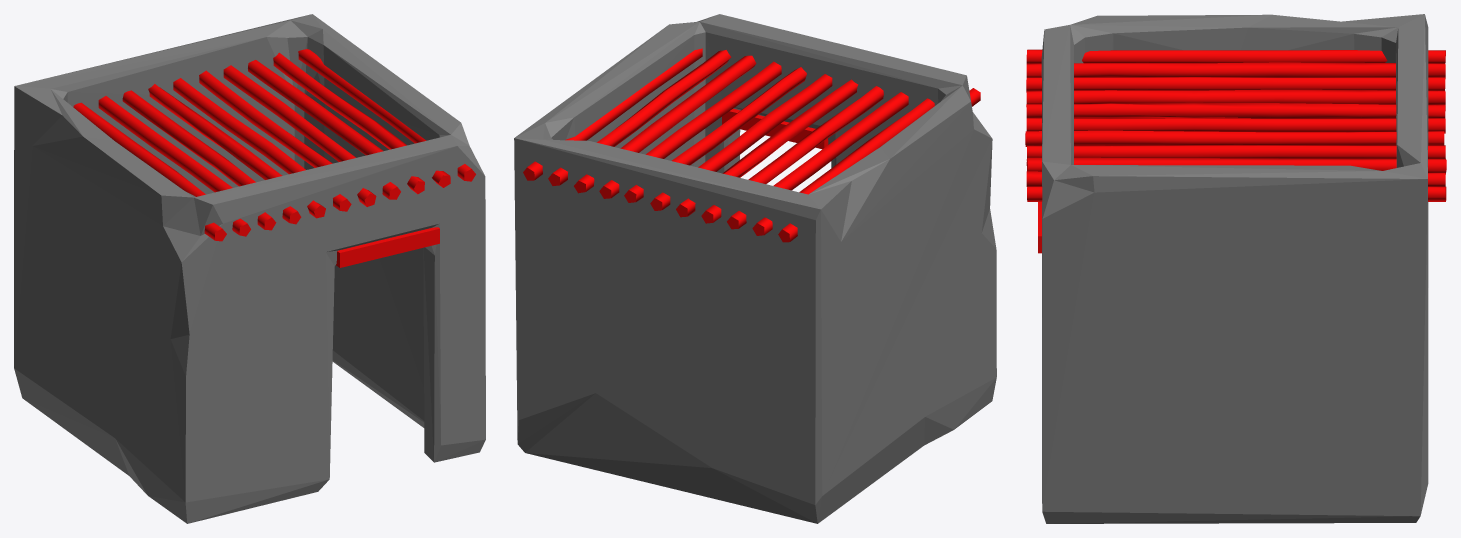
The model's file is House01.fbx.
The picture shows the model from 3 angles, left to right: view 1: azimuth 30°, elevation 25°; view 2: azimuth 150°, elevation 25°; view 3: azimuth 270°, elevation 25°; orthographic projection. The views are drawn at different scales.
Visible parts, largest first — view 1: House01; view 2: House01; view 3: House01.
Part boxes in pixels (x1=…): House01: x1=14, y1=14, x2=485, y2=523; House01: x1=514, y1=14, x2=996, y2=523; House01: x1=1025, y1=14, x2=1446, y2=523.
Size of the model in its own units: 300 by 300 by 327.
